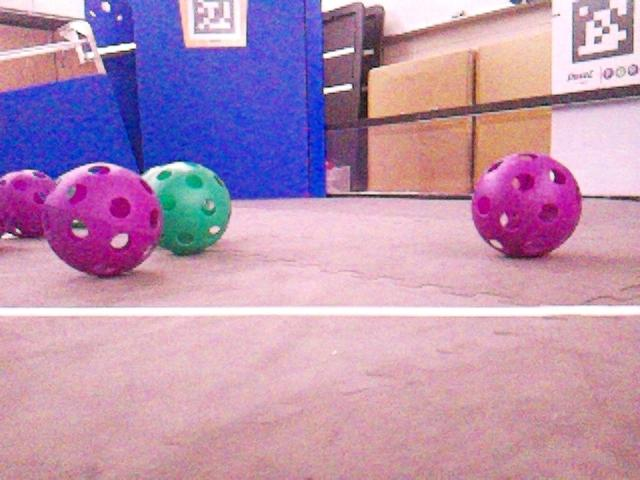Green: (143, 162, 231, 254)
Purple: (41, 163, 162, 275), (470, 152, 581, 257), (0, 169, 58, 238), (324, 160, 333, 170)
